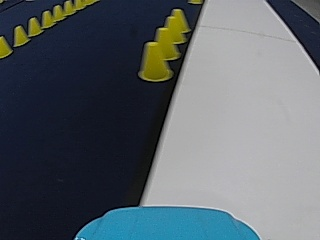cone: (137, 39, 171, 81), (163, 9, 188, 43), (152, 26, 176, 61), (157, 17, 182, 48), (13, 25, 28, 46), (0, 35, 12, 58), (27, 16, 41, 35), (52, 4, 63, 21), (41, 10, 52, 27), (63, 0, 73, 14)
